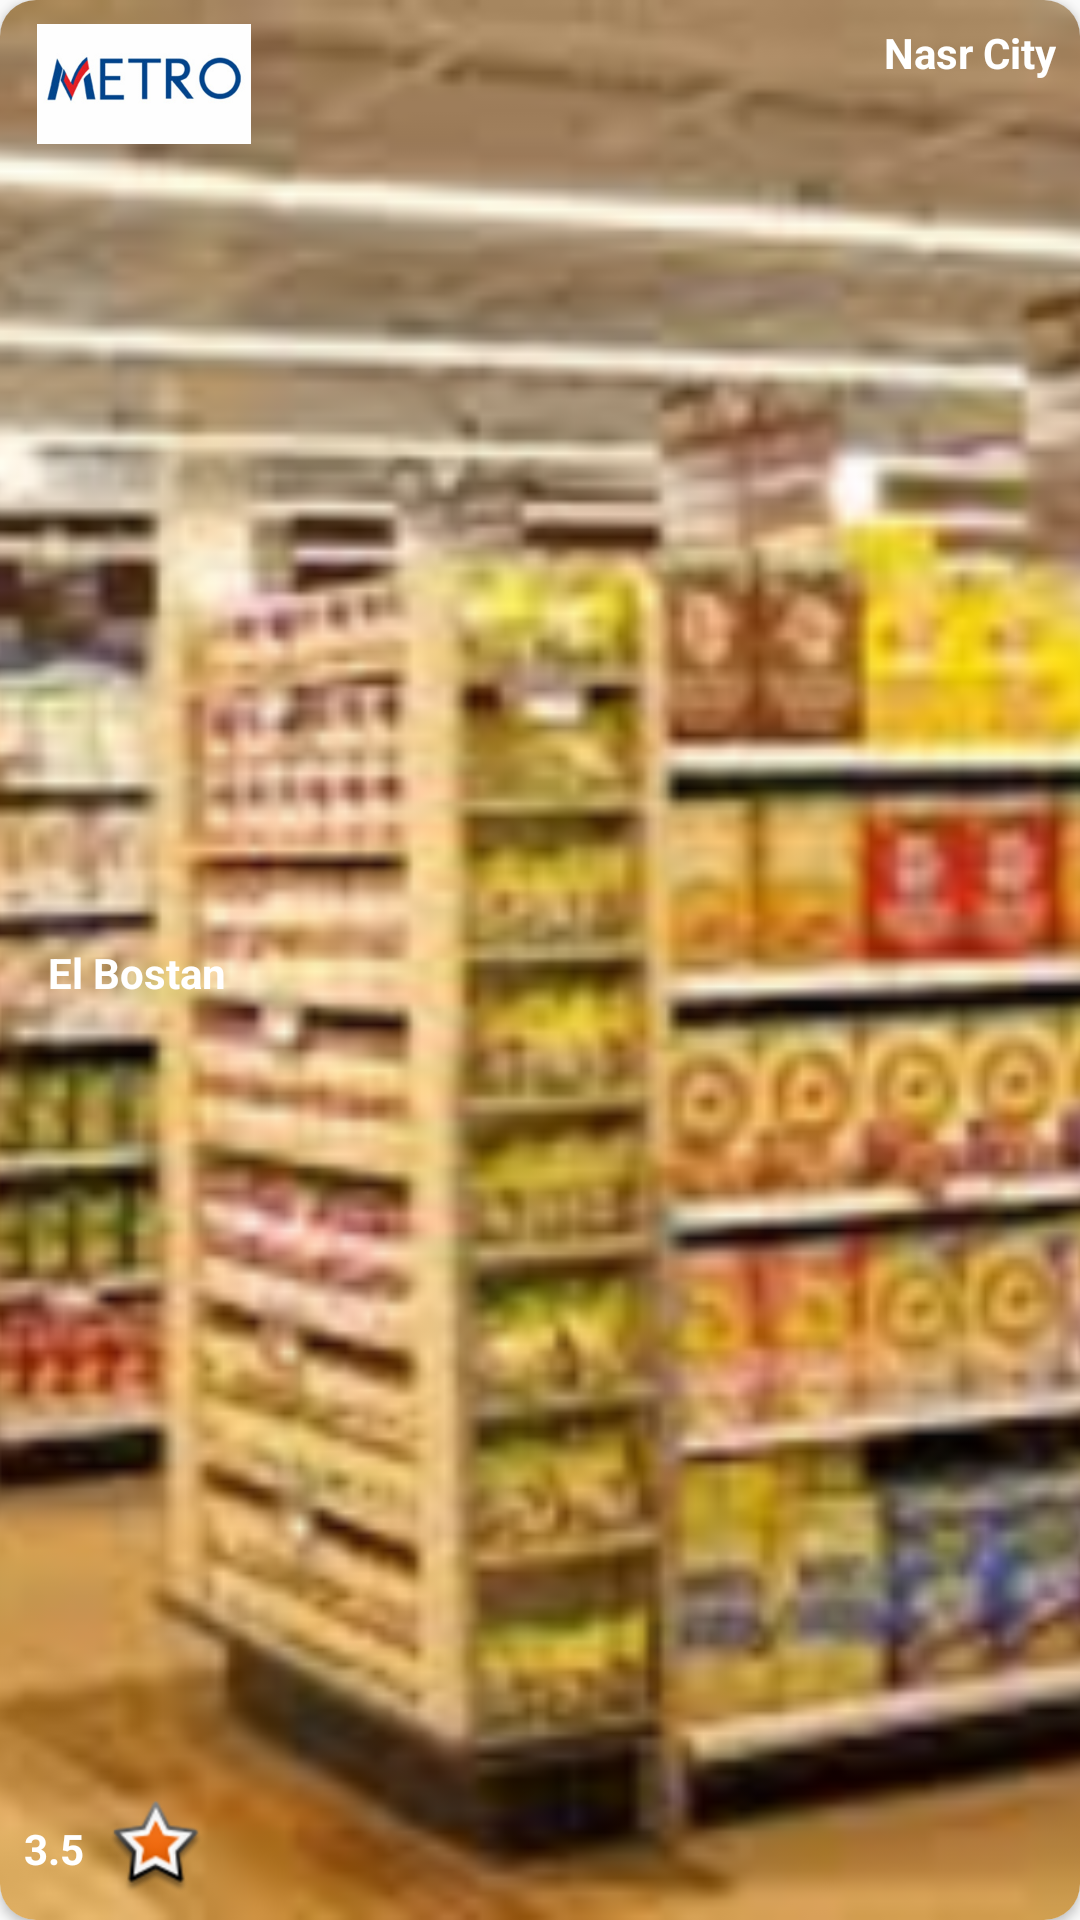

Icons on this 1080w x 1920h Android screen, each with the point to tap as (x,y):
star on: (153,1844)
